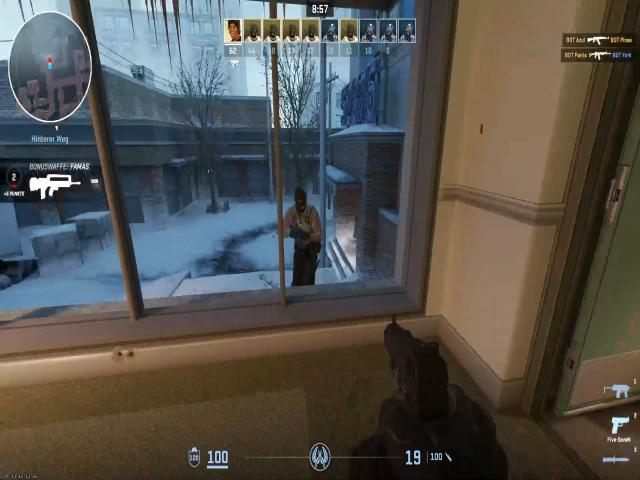T: (286, 184, 320, 264)
T-Head: (292, 189, 309, 215)
